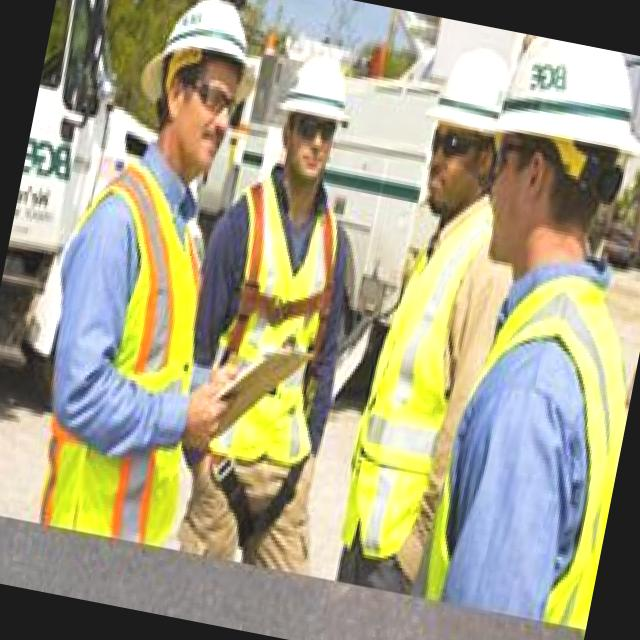helmet: (485, 30, 640, 176), (133, 0, 274, 122), (269, 36, 372, 140), (422, 30, 518, 141)
vest: (414, 247, 640, 612), (17, 158, 220, 533), (328, 184, 492, 590), (180, 163, 362, 494)
